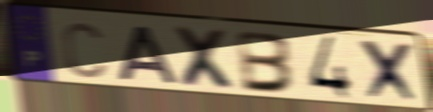4: (304, 33, 357, 102)
A: (116, 23, 183, 87)
B: (236, 28, 299, 95)
C: (60, 20, 108, 80)
X: (170, 24, 243, 93), (357, 37, 424, 107)
